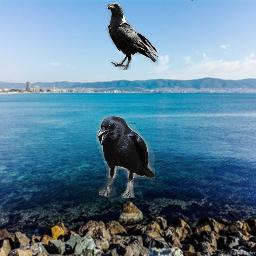Crow: (96, 116, 155, 198), (105, 2, 158, 70)
